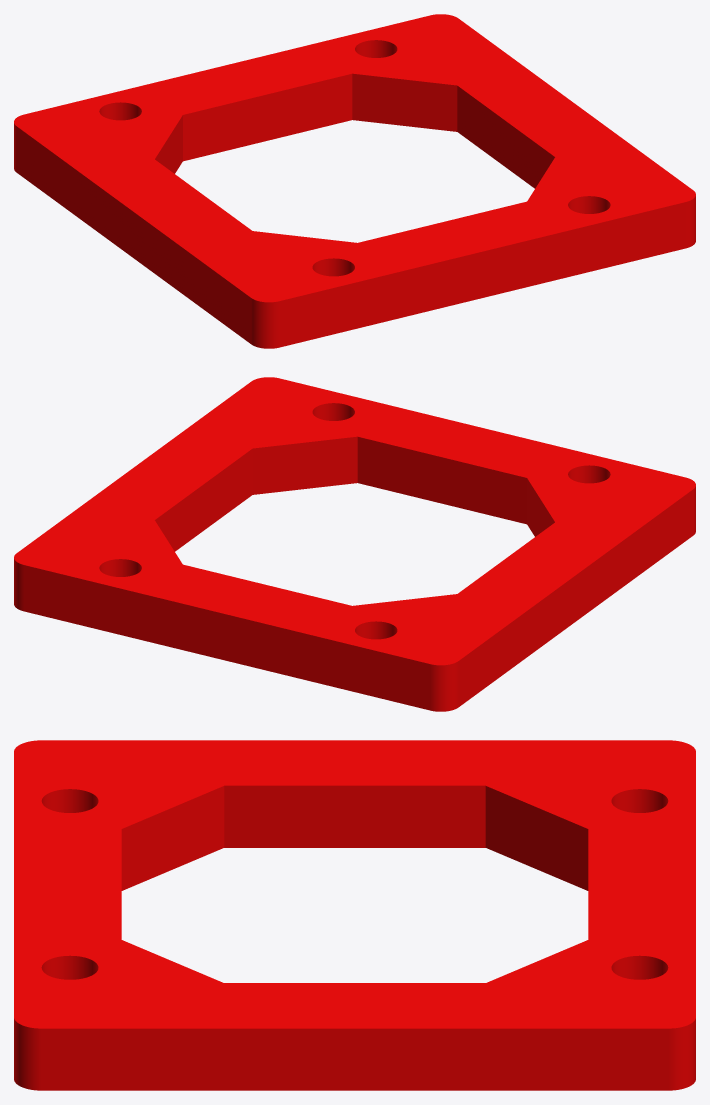
File: V5_Cube 1x1 V5 Bot Press.obj
3 views of the same model, one above another, from view 1: azimuth 30°, elevation 25°; view 2: azimuth 150°, elevation 25°; view 3: azimuth 270°, elevation 25° (orthographic). The views are drawn at different scales.
Visible parts, largest first — view 1: Solid1:10; view 2: Solid1:10; view 3: Solid1:10.
Part boxes in pixels (<box>): Solid1:10: <box>14,14,695,348</box>; Solid1:10: <box>14,377,695,711</box>; Solid1:10: <box>14,740,695,1090</box>.
Size of the model in its own units: 49.8 by 5 by 49.8.
